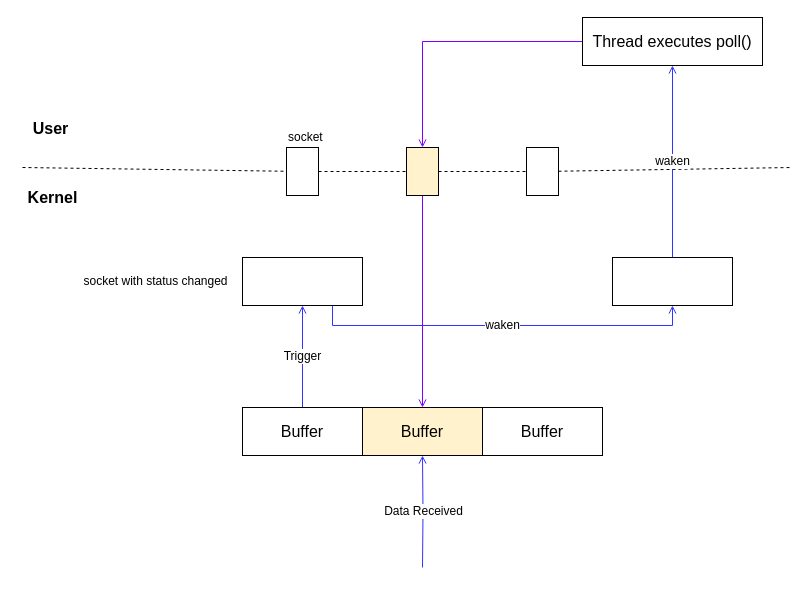
This 811x593 diagram has some shape labels left out. Each missing label, with the centre of its shape:
Event: the point at 302,281
Wait Queue: the point at 672,281
